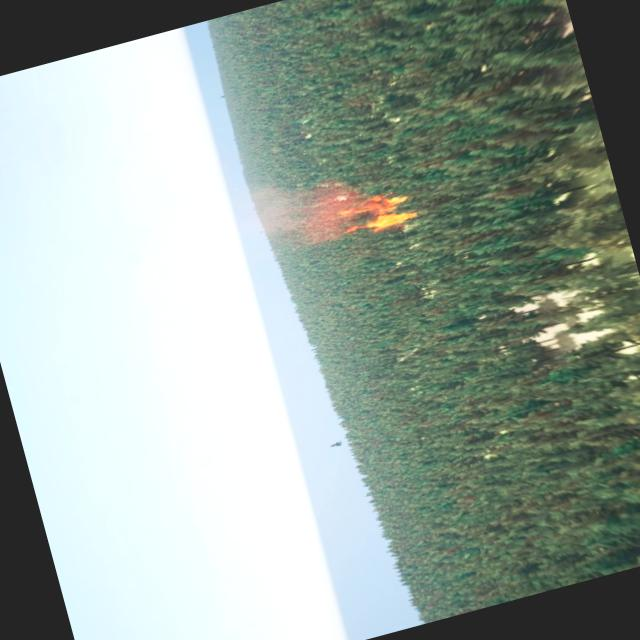fire: (334, 183, 424, 239)
smoke: (242, 163, 364, 259)
